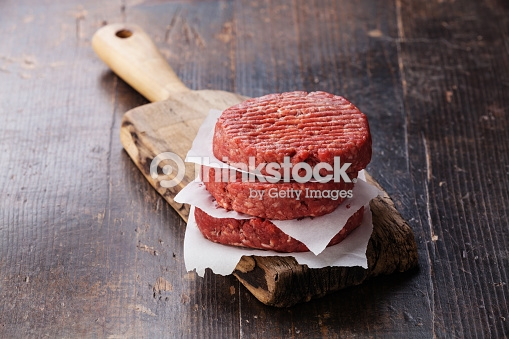ground_beef: (207, 87, 360, 177), (191, 211, 356, 260), (222, 182, 345, 217)
